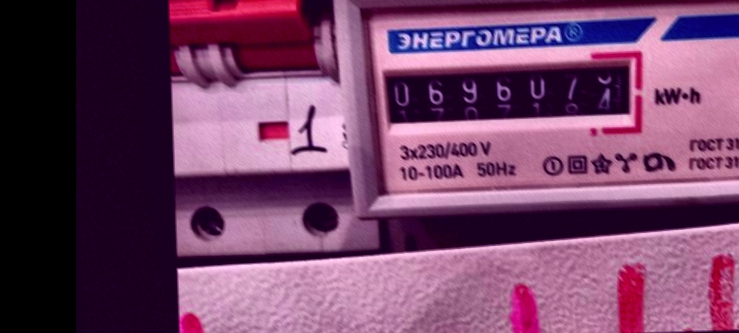0: (528, 70, 547, 101), (394, 79, 411, 107)
4: (596, 83, 614, 113)
6: (495, 73, 513, 102), (428, 77, 445, 105)
7: (562, 70, 582, 102)
9: (461, 76, 479, 104)
screen: (371, 47, 650, 140)
